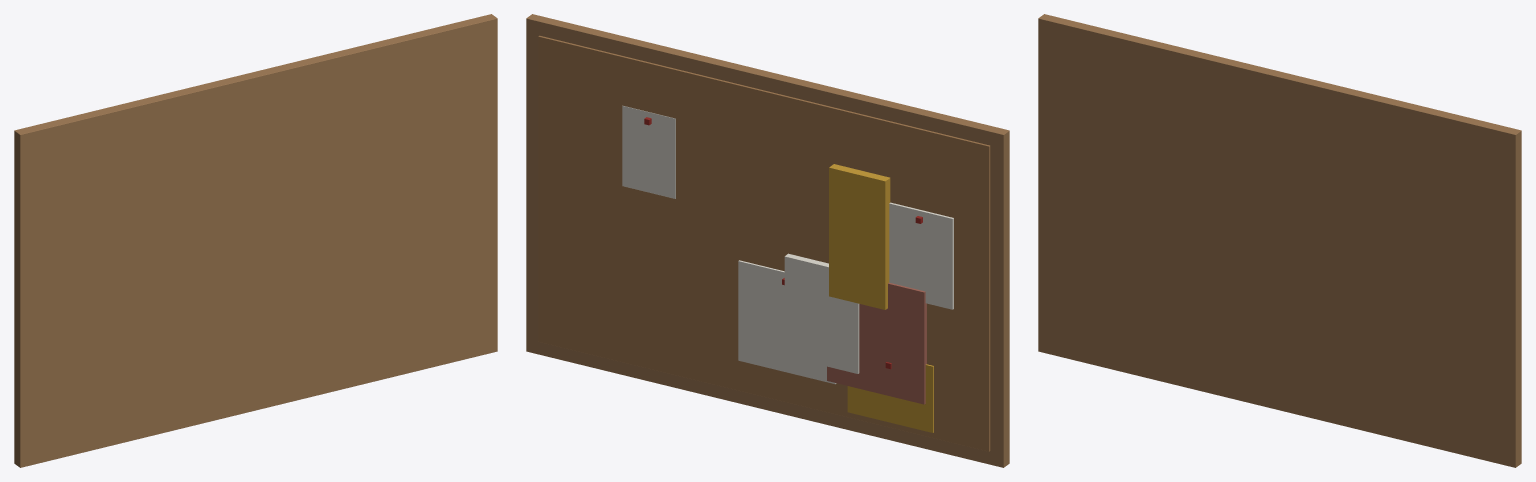
The model's file is prop_bulletin_board.glb.
3 views of the same model, side by side, from view 1: azimuth 30°, elevation 25°; view 2: azimuth 150°, elevation 25°; view 3: azimuth 330°, elevation 25° (orthographic).
Visible parts, largest first — view 1: Board; view 2: Board; view 3: Board.
Part boxes in pixels (<box>): Board: <box>14,14,497,467</box>; Board: <box>526,14,1009,467</box>; Board: <box>1038,14,1521,467</box>.
Size of the model in its own units: 0.9 by 0.6 by 0.04.
